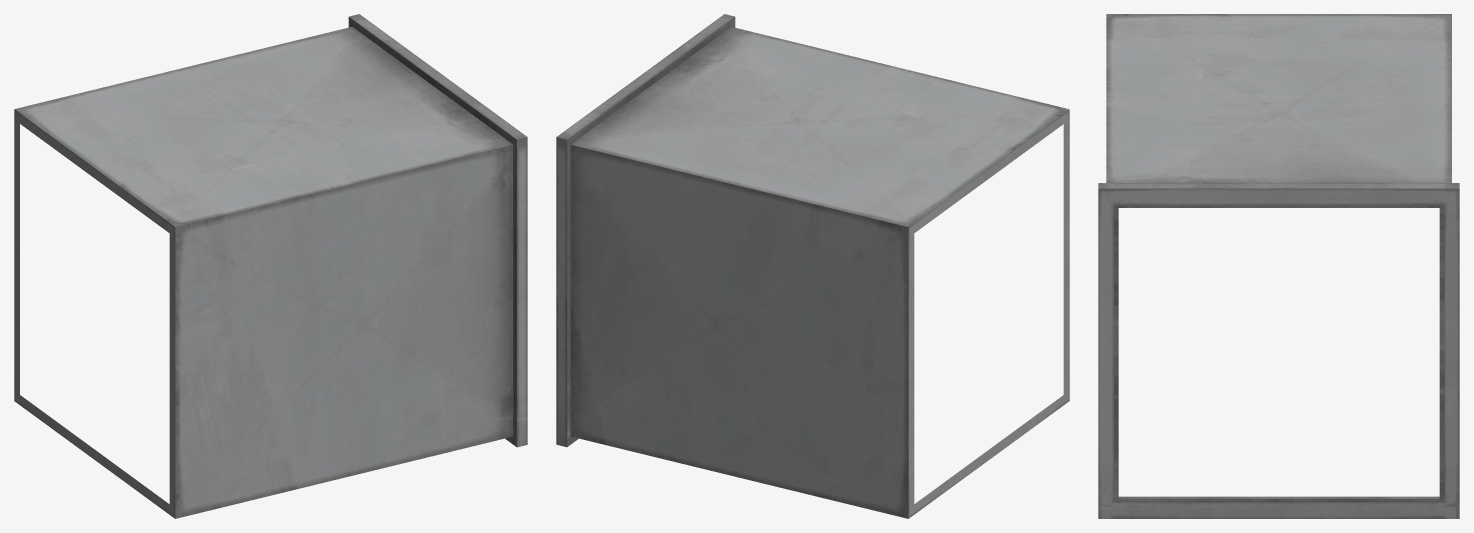
The model's file is SM_Vent_Duct_32nd_01.glb.
3 renders of one model, left to right at view 1: azimuth 30°, elevation 25°; view 2: azimuth 150°, elevation 25°; view 3: azimuth 270°, elevation 25°, orthographic. The views are drawn at different scales.
Parts seen in each view (by area): view 1: SM_Vent_Duct_32nd_01; view 2: SM_Vent_Duct_32nd_01; view 3: SM_Vent_Duct_32nd_01.
Boxes of the visible parts, bbox=[...] form: SM_Vent_Duct_32nd_01: bbox=[14, 14, 527, 518]; SM_Vent_Duct_32nd_01: bbox=[556, 14, 1069, 518]; SM_Vent_Duct_32nd_01: bbox=[1098, 14, 1459, 518].
Bounding box in the file's own units: 0.5 × 0.4216 × 0.4178.
1 material, 1 textured.
